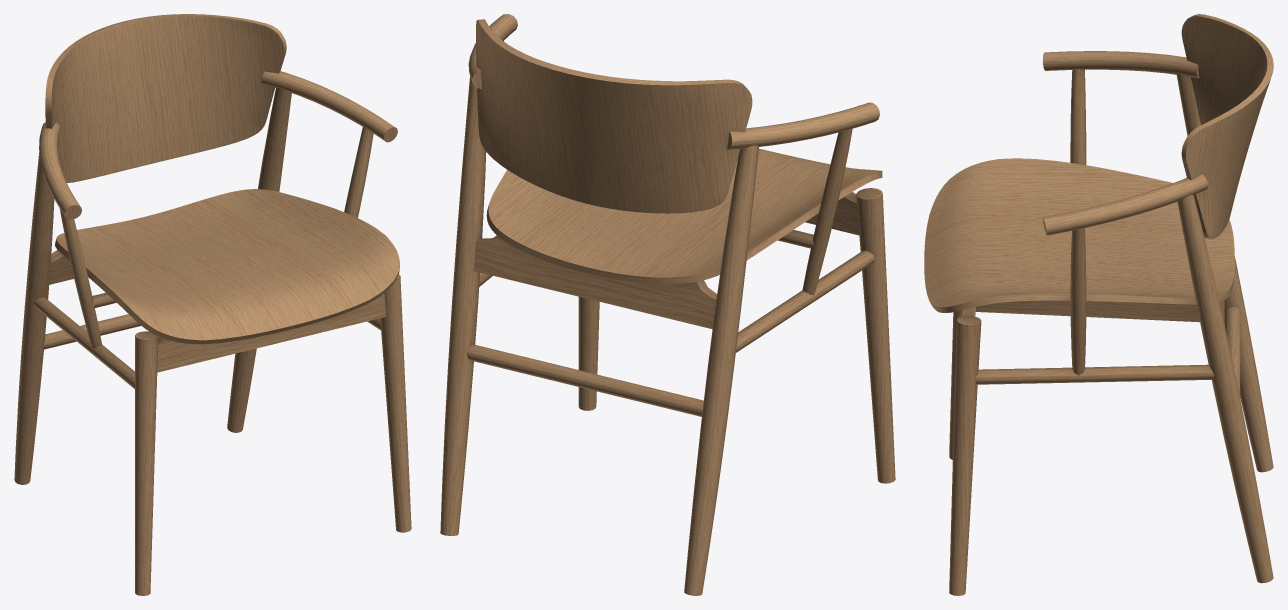
File: N01_Oak.gltf
The picture shows the model from 3 angles, left to right: view 1: azimuth 30°, elevation 25°; view 2: azimuth 150°, elevation 25°; view 3: azimuth 270°, elevation 25°; orthographic projection. The views are drawn at different scales.
Visible parts, largest first — view 1: N01; view 2: N01; view 3: N01.
Part boxes in pixels (<box>): N01: <box>14,14,411,595</box>; N01: <box>440,14,895,595</box>; N01: <box>924,14,1273,595</box>.
Size of the model in its own units: 0.6194 by 0.7694 by 0.5284.
Materials: 1 (1 with a texture image).
